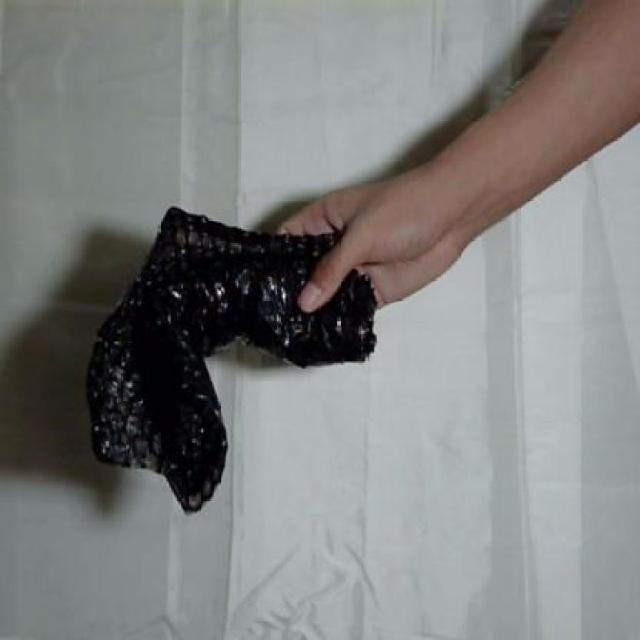Plastic: (88, 205, 382, 516)
